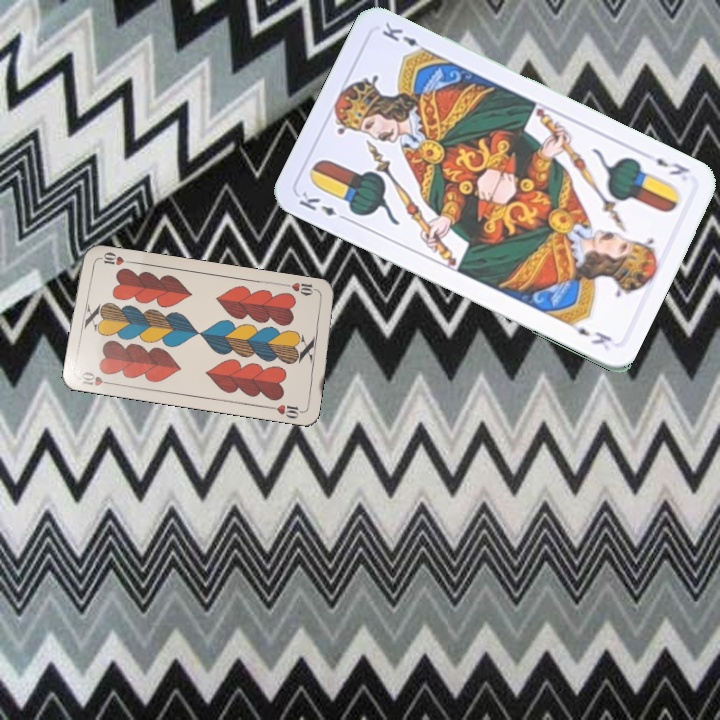EK: (295, 187, 351, 224), (652, 153, 693, 178)
H10: (281, 278, 322, 298), (78, 368, 117, 388)
